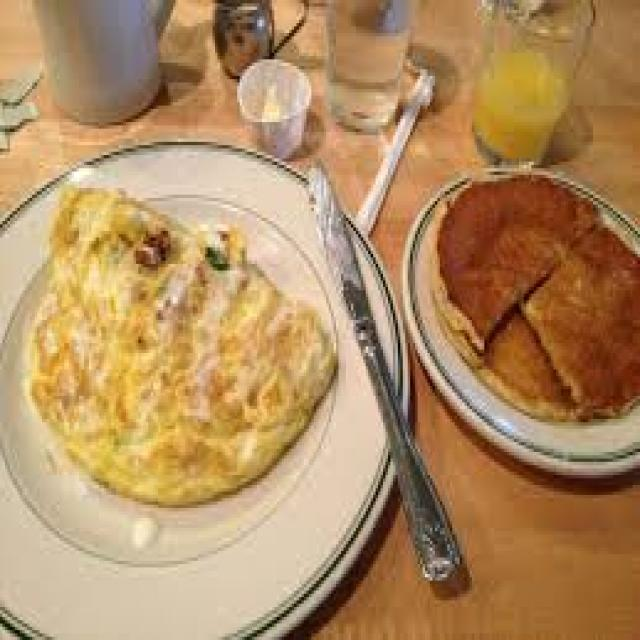Omelette: (27, 175, 341, 508)
Pancakes: (418, 162, 638, 426)
